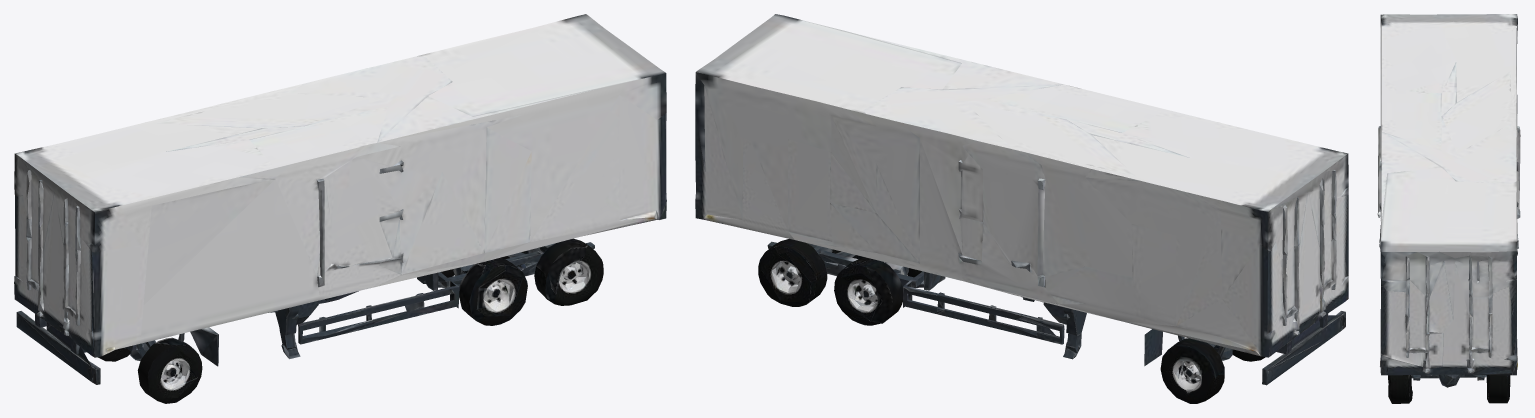
The model's file is trailer.glb.
3 renders of one model, left to right at view 1: azimuth 30°, elevation 25°; view 2: azimuth 150°, elevation 25°; view 3: azimuth 270°, elevation 25°, orthographic. The views are drawn at different scales.
Bounding box in the file's own units: 1.9 × 0.6837 × 0.478.
Materials: 1 (1 with a texture image).
